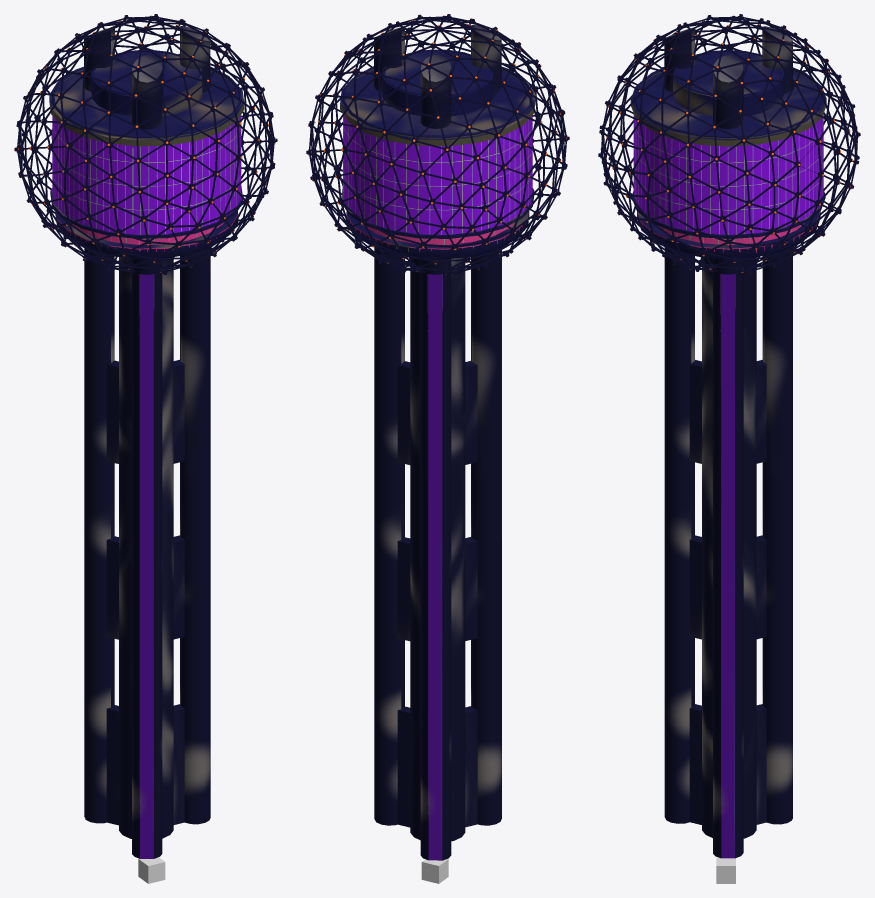
Rendered from globe.glb.
3 renders of one model, left to right at view 1: azimuth 30°, elevation 25°; view 2: azimuth 150°, elevation 25°; view 3: azimuth 270°, elevation 25°, orthographic.
Parts seen in each view (by area): view 1: MainRoom, CenterSupport, Support1, PlatonicSphere, Support3, Support2, Cube; view 2: MainRoom, CenterSupport, Support2, PlatonicSphere, Support1, Support3, Cube; view 3: MainRoom, CenterSupport, Support3, PlatonicSphere, Support2, Support1, Cube.
Boxes of the visible parts, x1=… form: MainRoom: x1=49, y1=50, x2=244, y2=258; CenterSupport: x1=106, y1=257, x2=184, y2=838; Support1: x1=132, y1=55, x2=162, y2=858; PlatonicSphere: x1=17, y1=16, x2=274, y2=272; Support3: x1=180, y1=26, x2=210, y2=824; Support2: x1=84, y1=27, x2=114, y2=823; Cube: x1=138, y1=857, x2=165, y2=883; MainRoom: x1=340, y1=49, x2=535, y2=259; CenterSupport: x1=397, y1=257, x2=477, y2=841; Support2: x1=420, y1=54, x2=451, y2=860; PlatonicSphere: x1=309, y1=16, x2=566, y2=273; Support1: x1=471, y1=25, x2=501, y2=825; Support3: x1=374, y1=27, x2=404, y2=825; Cube: x1=421, y1=858, x2=448, y2=883; MainRoom: x1=630, y1=50, x2=826, y2=259; CenterSupport: x1=689, y1=257, x2=766, y2=838; Support3: x1=713, y1=55, x2=743, y2=858; PlatonicSphere: x1=601, y1=16, x2=857, y2=272; Support2: x1=762, y1=26, x2=792, y2=824; Support1: x1=664, y1=28, x2=695, y2=823; Cube: x1=716, y1=857, x2=735, y2=883.
Size of the model in its own units: 26.59 by 95.4 by 26.63.
Materials: 4 (3 with a texture image).
